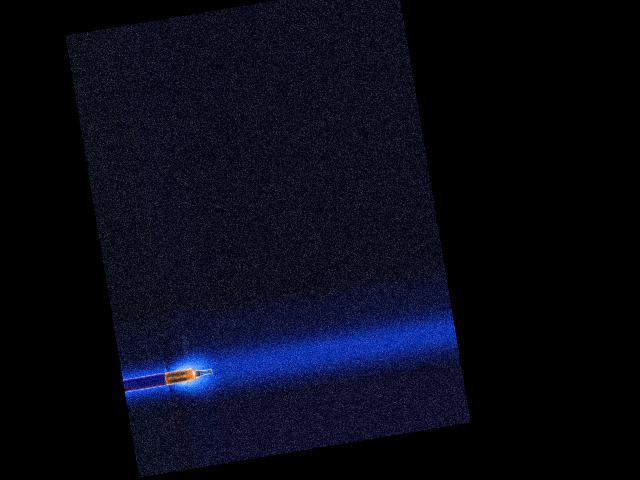beer: (164, 365, 213, 386)
